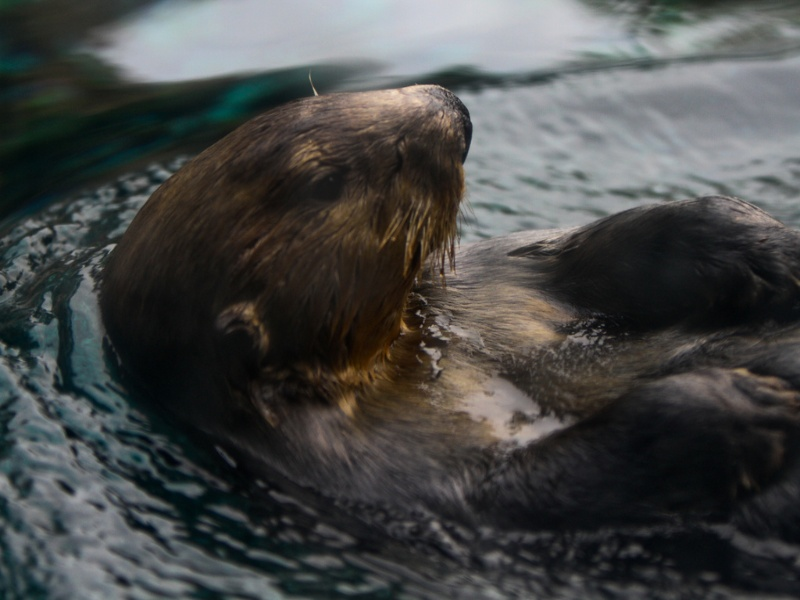minkish: (92, 80, 800, 537)
